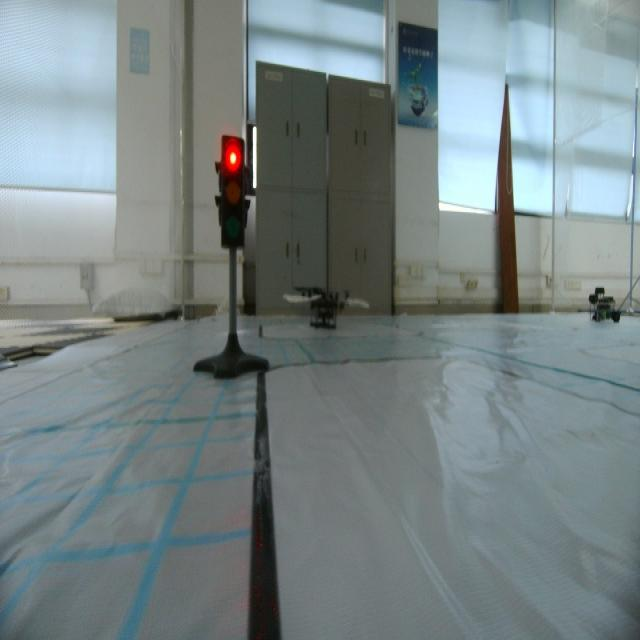red: (215, 128, 253, 254)
